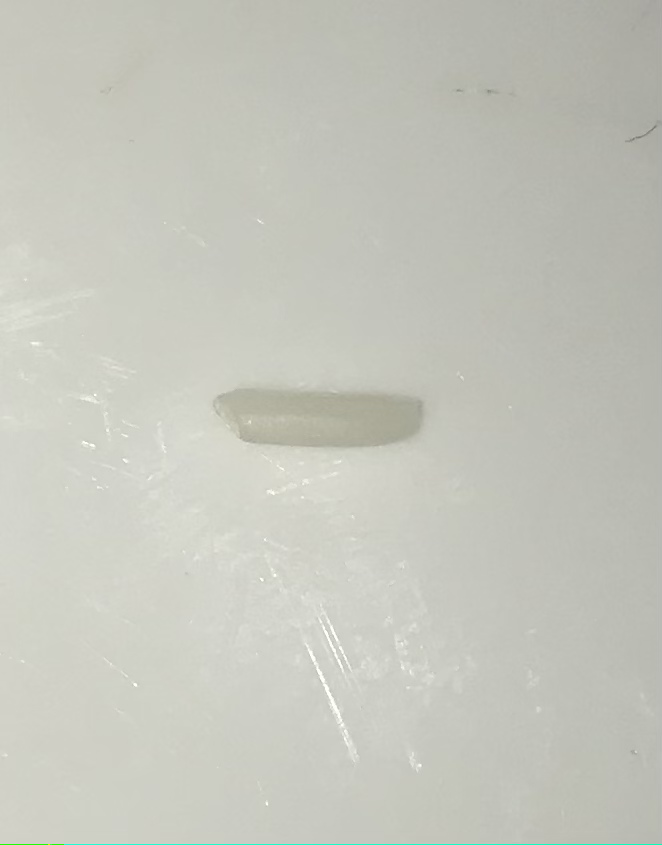Gao Ngoc Troi: (213, 368, 435, 458)
